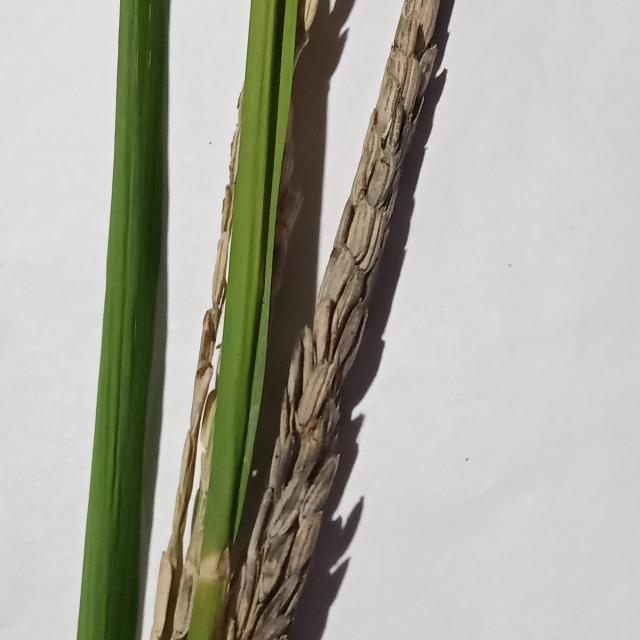Neck_Blast: (219, 0, 456, 640)
